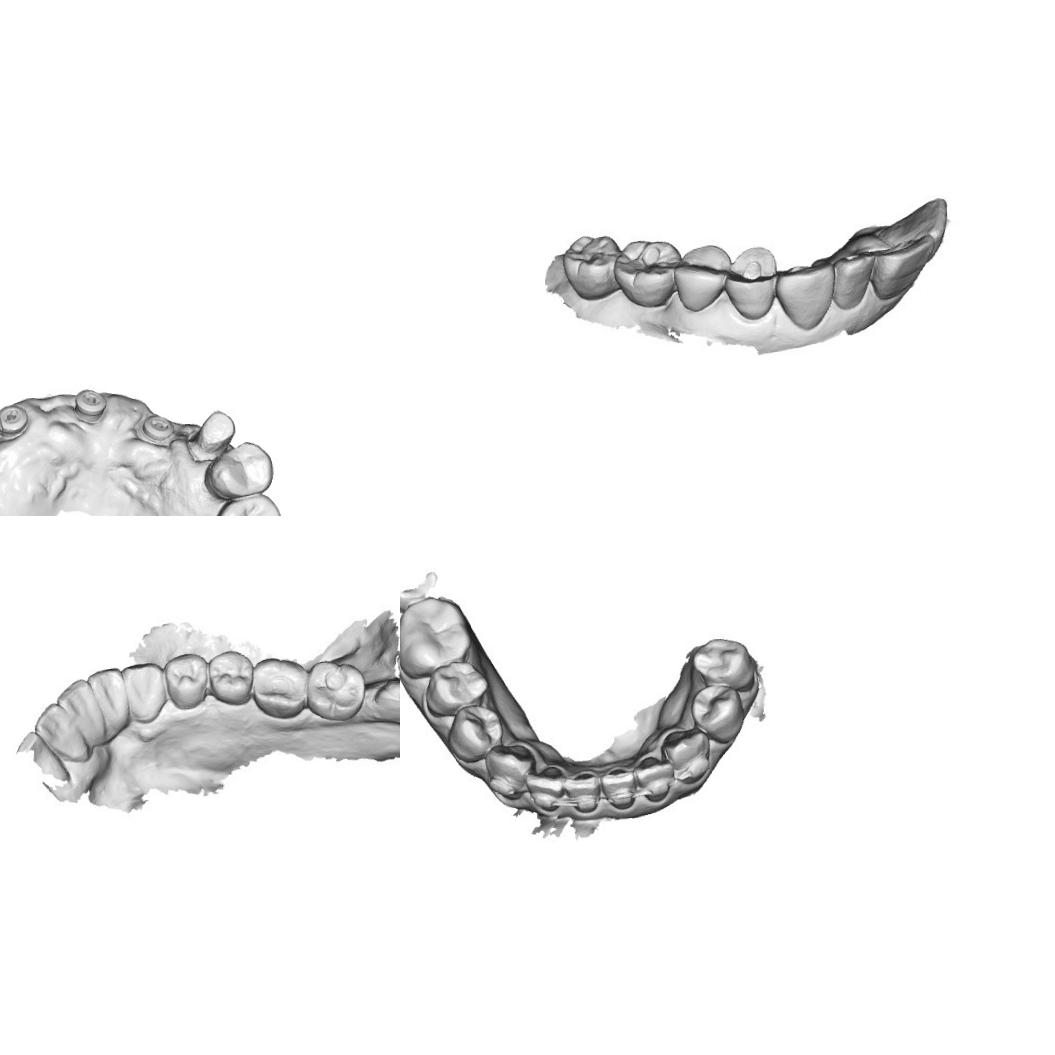canine: (776, 256, 838, 334), (120, 655, 168, 722), (486, 744, 539, 800), (666, 732, 714, 784)
crown: (190, 407, 238, 460)
implant_minus: (0, 400, 31, 438), (72, 387, 104, 421), (140, 412, 174, 442)
incisor: (828, 246, 882, 313), (878, 238, 933, 296), (32, 699, 86, 757), (54, 676, 100, 734), (88, 665, 130, 721), (634, 754, 672, 800), (526, 764, 562, 810), (566, 766, 600, 814), (602, 763, 634, 810)
molar: (400, 593, 472, 681), (614, 235, 682, 311), (559, 232, 623, 303), (248, 653, 310, 720), (304, 656, 366, 722)
premolar: (203, 438, 275, 499), (672, 239, 733, 311), (723, 248, 776, 320), (423, 662, 491, 717), (687, 634, 753, 690), (162, 649, 212, 711), (449, 705, 502, 758), (206, 647, 253, 706), (691, 684, 739, 734), (206, 491, 282, 516)
